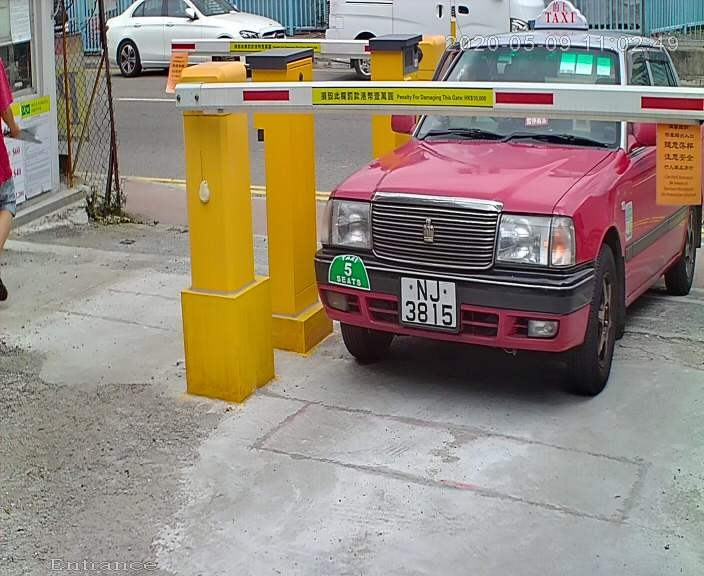Car: (277, 5, 704, 412)
License Plate: (393, 276, 469, 335)
